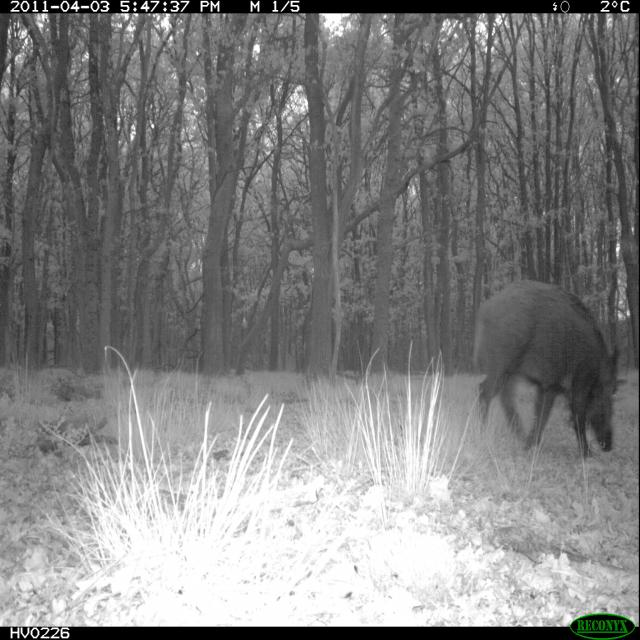boar: (459, 258, 626, 482)
